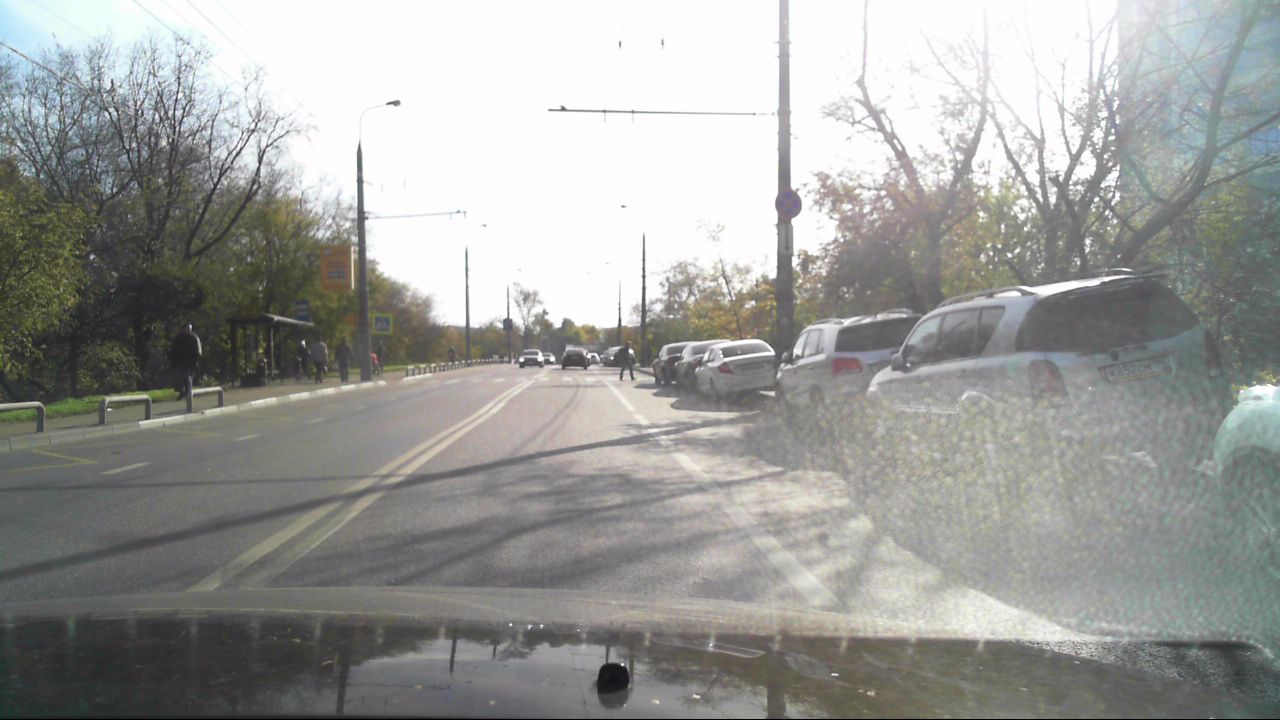No Parking: (772, 189, 802, 218)
